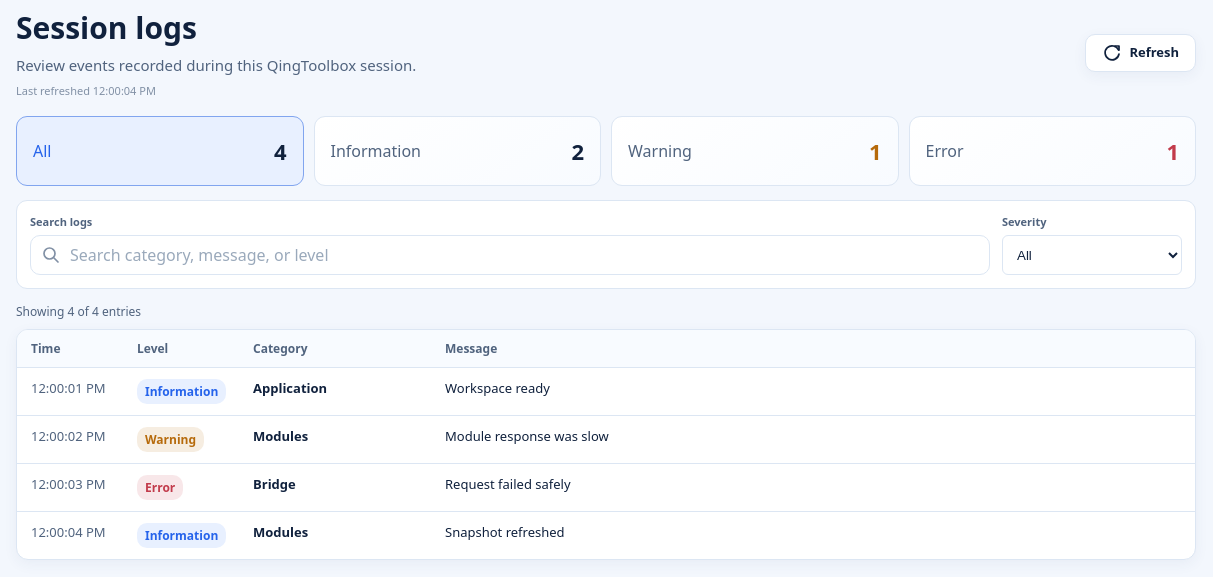
Test: LogsPage everyday workspace › combines search and severity filters
Click the button "Information 2" at (376, 151), box [314, 116, 601, 186]
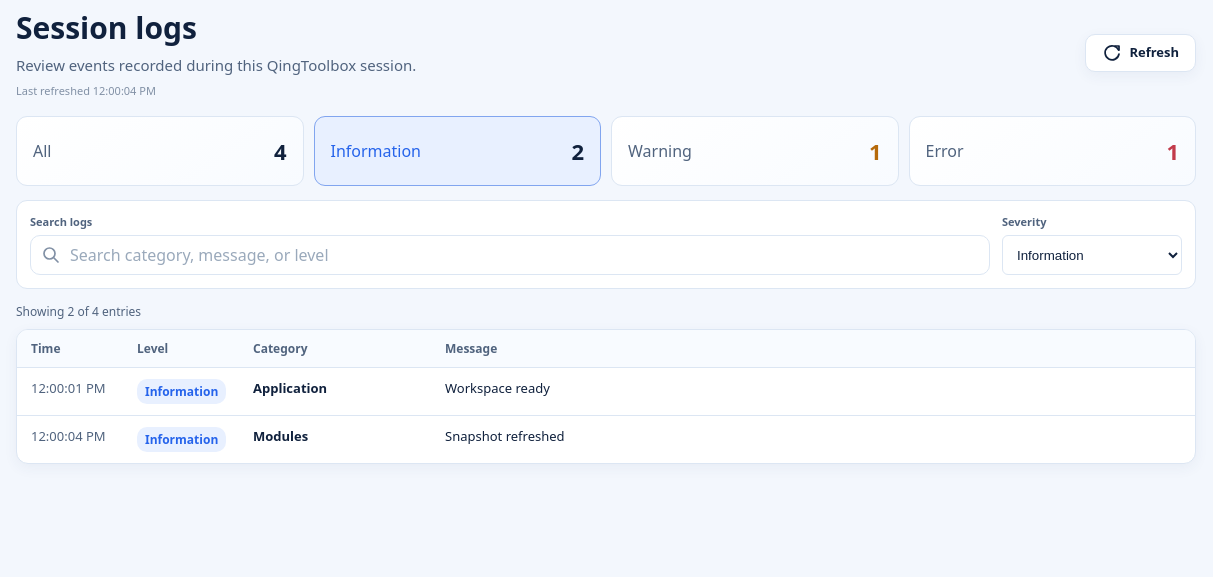
Type "modules" into the search field named "Search logs" at (510, 255), box [30, 235, 990, 275]
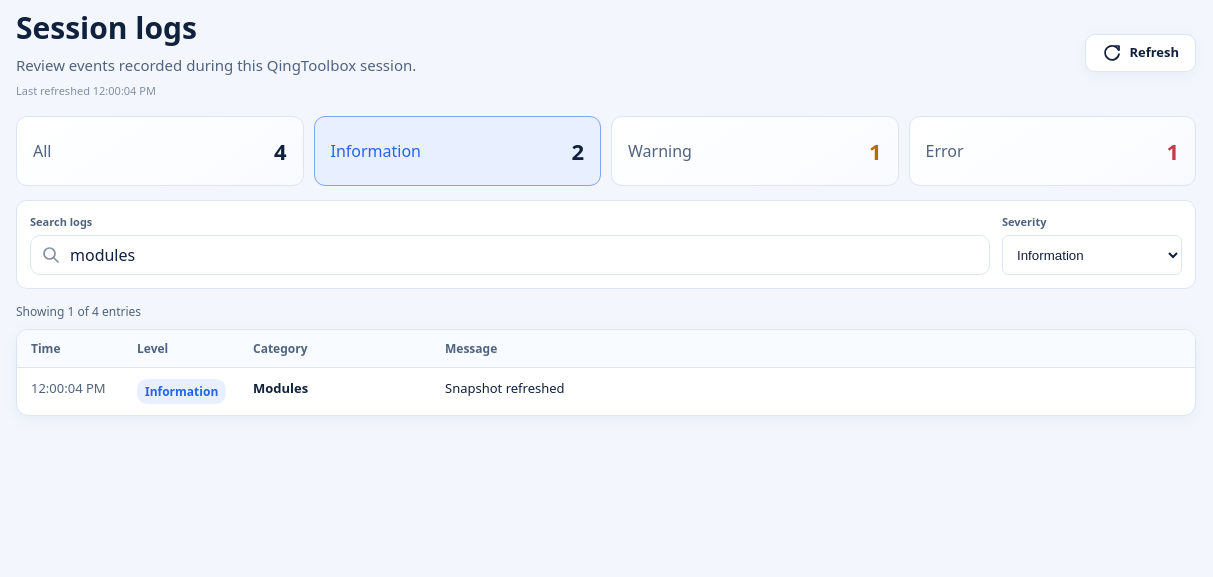
Check: the text "Snapshot refreshed" is shown, box [445, 379, 565, 397]
Check: the number of elements with class "logs-row" is 1, box [17, 367, 1195, 415]
